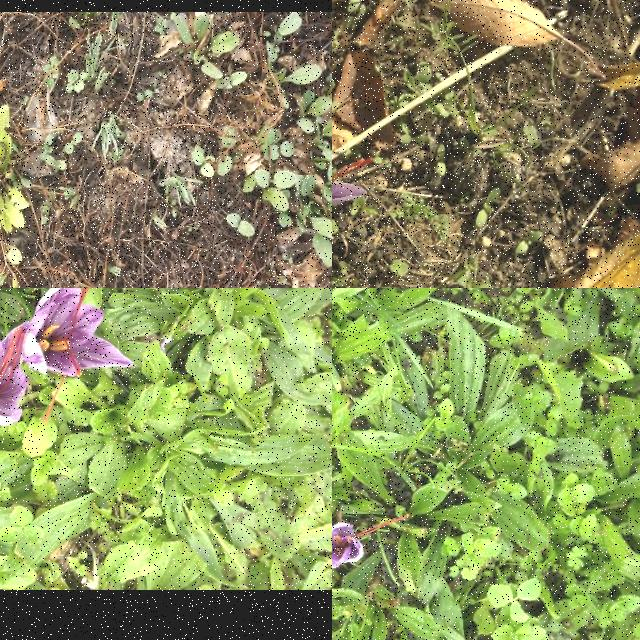flower: (25, 288, 132, 423), (332, 513, 409, 569), (332, 125, 373, 216), (0, 322, 30, 426)
